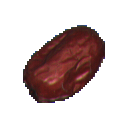ng: (20, 21, 111, 107)
